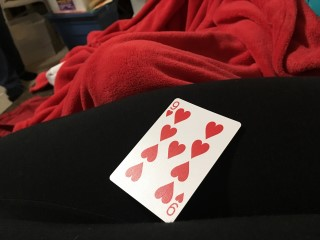NineOfHearts: (109, 98, 242, 224)
